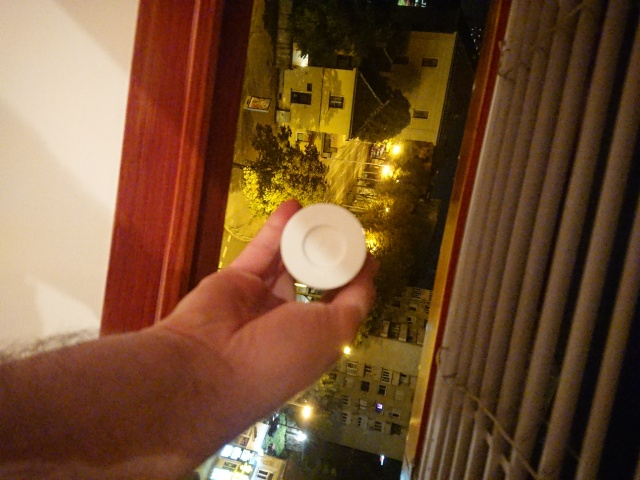Solana Pag Fine Sea Salt 250g: (277, 200, 370, 293)
